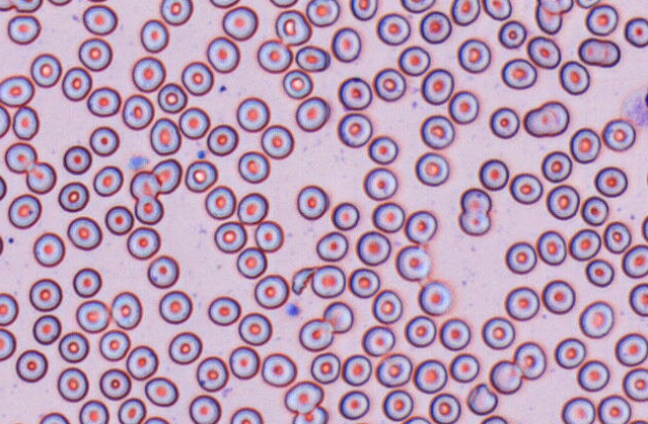PLT: (284, 303, 301, 316), (195, 149, 207, 161)
RBC: (523, 100, 569, 137), (578, 300, 614, 338), (283, 380, 323, 414), (395, 244, 431, 281), (274, 9, 311, 45), (375, 352, 412, 387), (221, 5, 258, 40), (577, 37, 620, 67), (355, 230, 391, 265), (260, 352, 296, 387), (253, 274, 289, 309), (456, 37, 491, 73), (420, 67, 454, 104), (513, 341, 546, 379), (110, 290, 142, 329), (417, 280, 452, 315), (414, 151, 449, 186), (419, 114, 454, 149), (337, 112, 372, 147), (7, 193, 41, 229), (256, 39, 292, 73), (66, 216, 102, 250), (295, 96, 329, 132), (131, 56, 165, 92), (195, 355, 228, 392), (206, 36, 239, 73), (149, 117, 181, 155), (310, 264, 345, 298), (413, 358, 447, 393), (541, 279, 575, 314), (504, 286, 539, 320), (362, 166, 397, 200), (75, 299, 110, 333), (337, 76, 372, 110), (158, 289, 192, 324), (260, 124, 294, 159), (125, 344, 158, 380), (546, 184, 579, 220), (236, 96, 269, 132), (32, 231, 65, 267), (296, 184, 329, 220), (500, 57, 537, 89), (122, 93, 154, 130), (372, 67, 406, 101), (527, 35, 561, 69), (78, 37, 112, 71), (489, 359, 522, 394), (298, 318, 333, 351), (601, 118, 636, 151), (56, 366, 88, 402), (569, 127, 601, 163), (0, 74, 34, 107), (584, 3, 618, 36), (404, 209, 437, 243), (168, 331, 202, 364), (481, 316, 515, 349), (126, 226, 160, 259), (238, 312, 272, 345), (376, 12, 410, 45), (28, 278, 62, 311), (558, 60, 590, 95), (181, 61, 213, 96), (15, 349, 48, 382), (504, 241, 537, 274), (184, 159, 217, 192), (568, 228, 601, 261), (237, 150, 270, 183), (576, 359, 610, 391), (615, 332, 647, 366), (147, 254, 179, 288), (213, 221, 247, 253), (509, 172, 543, 204), (204, 185, 236, 219), (151, 158, 182, 193), (61, 66, 92, 101), (371, 289, 402, 324), (82, 4, 117, 35), (30, 52, 61, 87), (331, 26, 361, 62), (381, 388, 413, 421), (4, 141, 37, 173), (404, 314, 436, 347), (419, 10, 451, 43), (439, 317, 471, 350), (371, 201, 404, 233), (206, 123, 238, 156), (144, 376, 178, 407), (361, 325, 395, 356), (228, 345, 259, 379), (7, 14, 41, 45), (448, 90, 479, 124), (594, 166, 628, 197), (86, 86, 120, 117), (536, 230, 566, 265), (99, 368, 131, 400), (98, 329, 130, 361), (554, 337, 586, 369), (25, 161, 56, 194), (337, 389, 370, 420), (428, 392, 461, 423), (315, 230, 348, 261), (178, 106, 209, 139), (341, 353, 372, 386), (397, 45, 430, 76), (207, 295, 240, 326), (294, 44, 330, 72), (322, 301, 353, 333), (348, 267, 380, 298), (236, 246, 267, 278), (58, 331, 89, 363), (478, 158, 509, 190), (57, 181, 89, 212), (541, 150, 572, 182), (237, 192, 268, 224), (597, 394, 631, 423), (140, 18, 169, 52), (282, 68, 313, 99), (92, 165, 123, 196), (310, 352, 340, 384), (489, 106, 519, 138), (188, 394, 221, 423), (560, 396, 595, 423), (12, 105, 39, 140), (305, 0, 340, 27), (129, 170, 160, 200), (157, 82, 187, 113), (89, 125, 119, 156), (254, 220, 283, 252), (603, 221, 631, 254), (621, 243, 647, 278), (449, 352, 479, 382), (72, 267, 102, 297), (32, 314, 61, 345), (367, 135, 398, 164), (584, 258, 614, 287), (62, 144, 91, 174), (104, 205, 133, 235), (580, 195, 609, 225), (535, 2, 562, 34), (622, 367, 647, 401), (134, 195, 163, 224), (497, 19, 526, 48), (460, 187, 491, 214), (458, 210, 490, 236), (159, 0, 192, 25), (331, 201, 359, 230), (117, 397, 146, 423), (450, 0, 480, 25), (78, 399, 109, 423), (624, 16, 647, 47), (292, 405, 328, 423), (628, 282, 647, 316), (0, 292, 18, 326), (482, 0, 512, 20), (229, 406, 263, 423), (349, 0, 377, 20), (0, 327, 16, 361), (538, 0, 573, 14), (400, 0, 435, 13), (38, 411, 70, 423), (11, 0, 42, 12), (0, 104, 10, 138), (479, 414, 508, 423), (401, 415, 431, 423), (209, 0, 239, 8), (269, 0, 298, 8), (143, 415, 169, 423), (575, 0, 600, 8), (0, 174, 7, 200), (641, 213, 647, 242), (47, 0, 72, 6), (0, 0, 13, 10), (627, 418, 647, 423), (0, 233, 4, 256), (85, 0, 109, 3)
Schistocyte: (467, 384, 499, 415), (291, 266, 318, 296)
